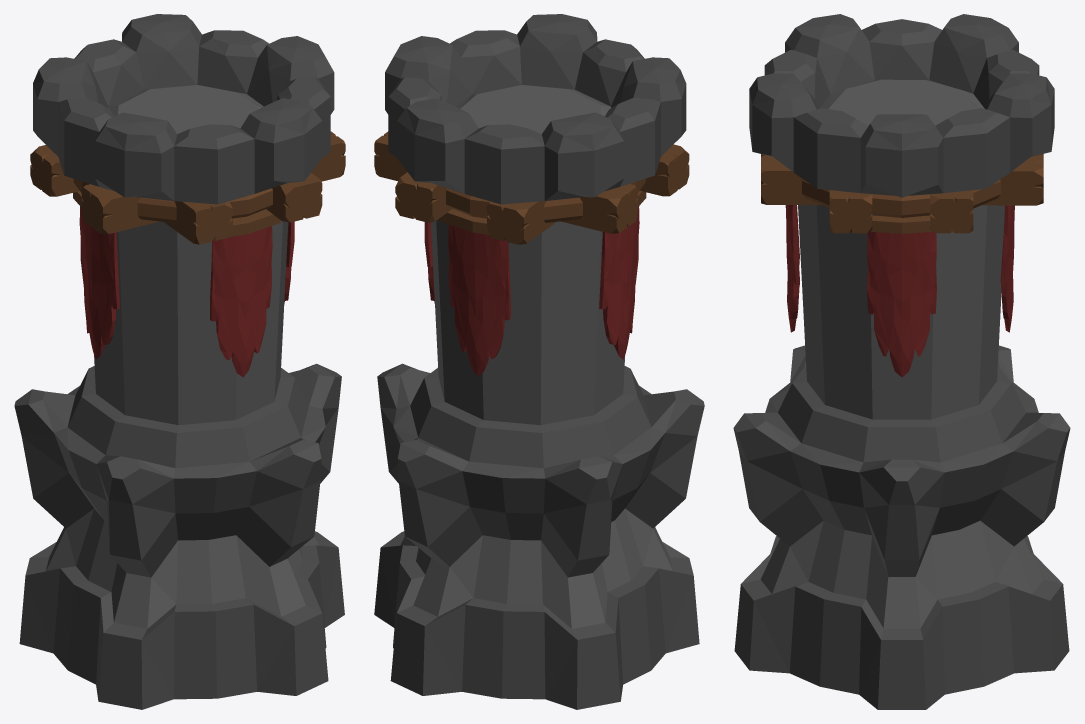
Rendered from RoundRoyalTower.fbx.
The picture shows the model from 3 angles, left to right: view 1: azimuth 30°, elevation 25°; view 2: azimuth 150°, elevation 25°; view 3: azimuth 270°, elevation 25°; orthographic projection.
Parts seen in each view (by area): view 1: RoundRoyalTower_LOD0; view 2: RoundRoyalTower_LOD0; view 3: RoundRoyalTower_LOD0.
Boxes of the visible parts, x1,y1,x2,y2 form: RoundRoyalTower_LOD0: (14, 14, 345, 709); RoundRoyalTower_LOD0: (374, 14, 704, 709); RoundRoyalTower_LOD0: (733, 14, 1070, 709).
Size of what is drawn, in the model's own units: 242 by 468 by 250.
